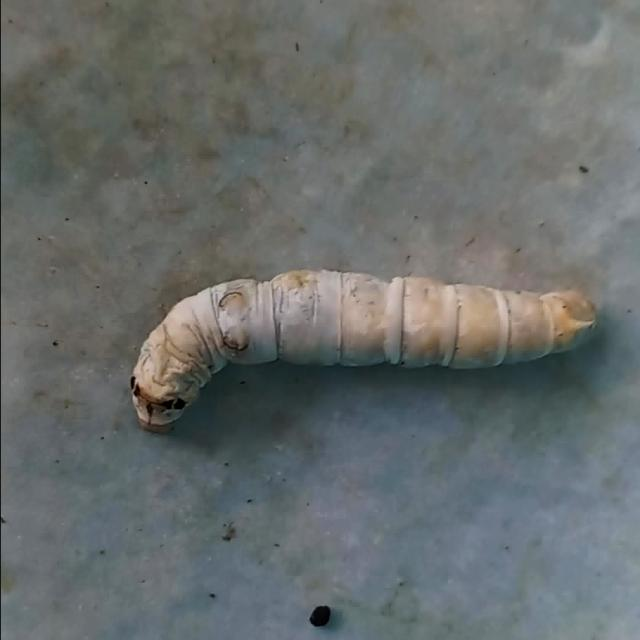Grasserie: (110, 254, 604, 457)
